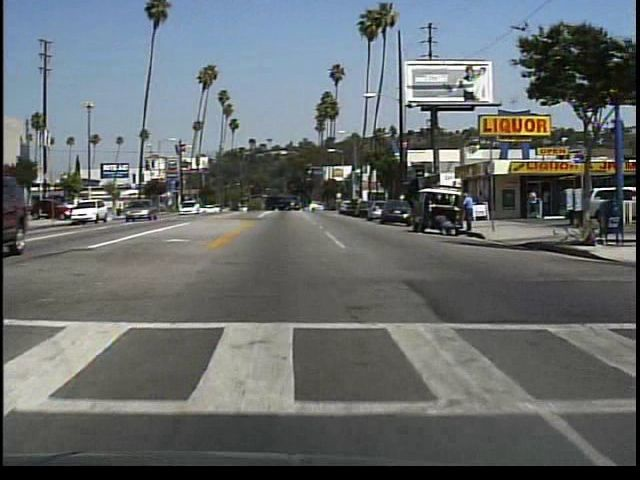person: (461, 190, 481, 237), (0, 193, 26, 225), (527, 186, 541, 224), (435, 214, 455, 238), (542, 187, 553, 218)
